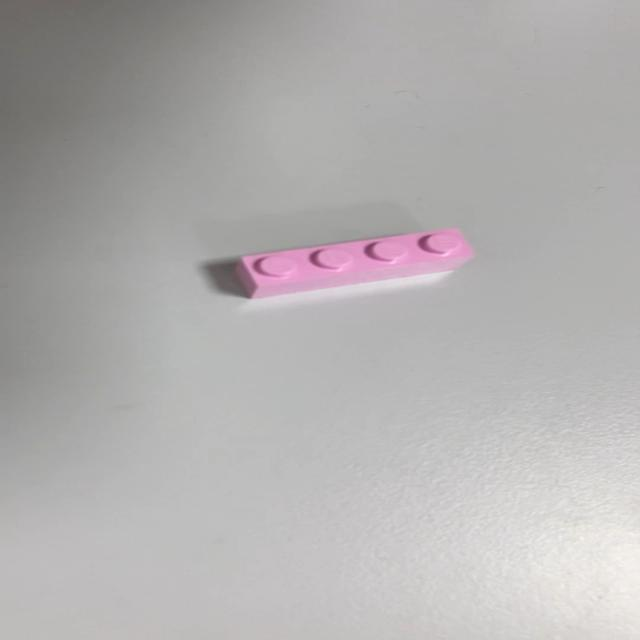C4x1x1: (233, 227, 475, 300)
